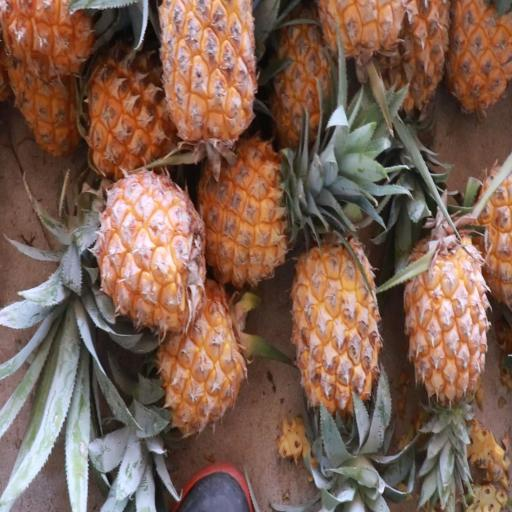Pineapple - v8 v1: (291, 229, 383, 439), (99, 172, 212, 340), (404, 218, 492, 419), (152, 270, 250, 442), (195, 127, 297, 291), (154, 0, 255, 150), (83, 30, 177, 178), (444, 0, 512, 118)
